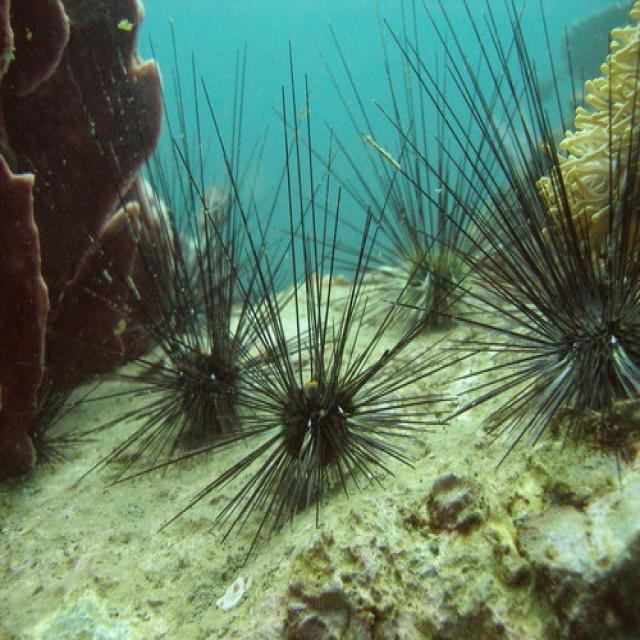Urchin: (154, 73, 448, 534), (51, 58, 278, 483), (279, 12, 525, 345), (467, 14, 639, 478)
